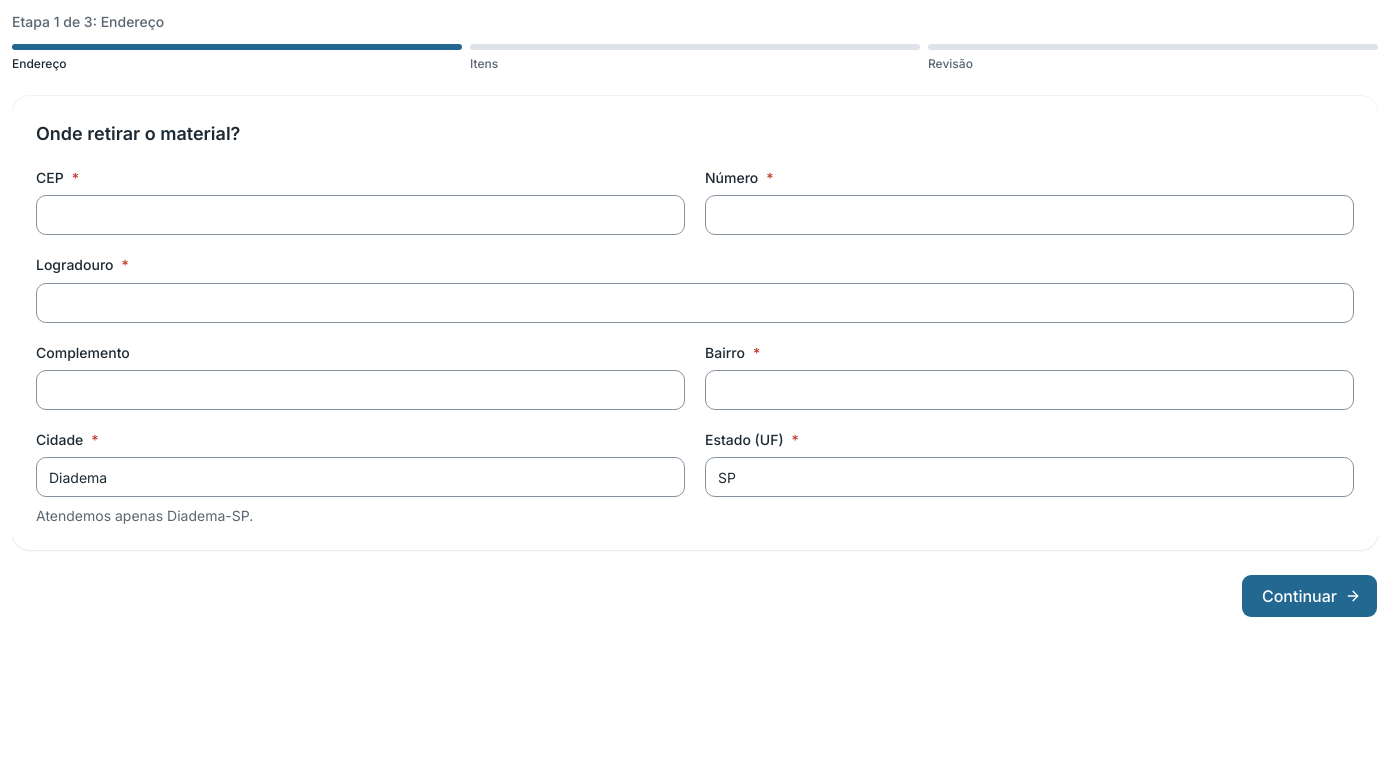
Test: CollectionRequestForm — endereço pelo CEP (DEC-081) › com o serviço de CEP indisponível, segue com preenchimento manual
Type "09900001" into the field labelled "CEP *". click: (360,215)
box: [36,195,685,235]
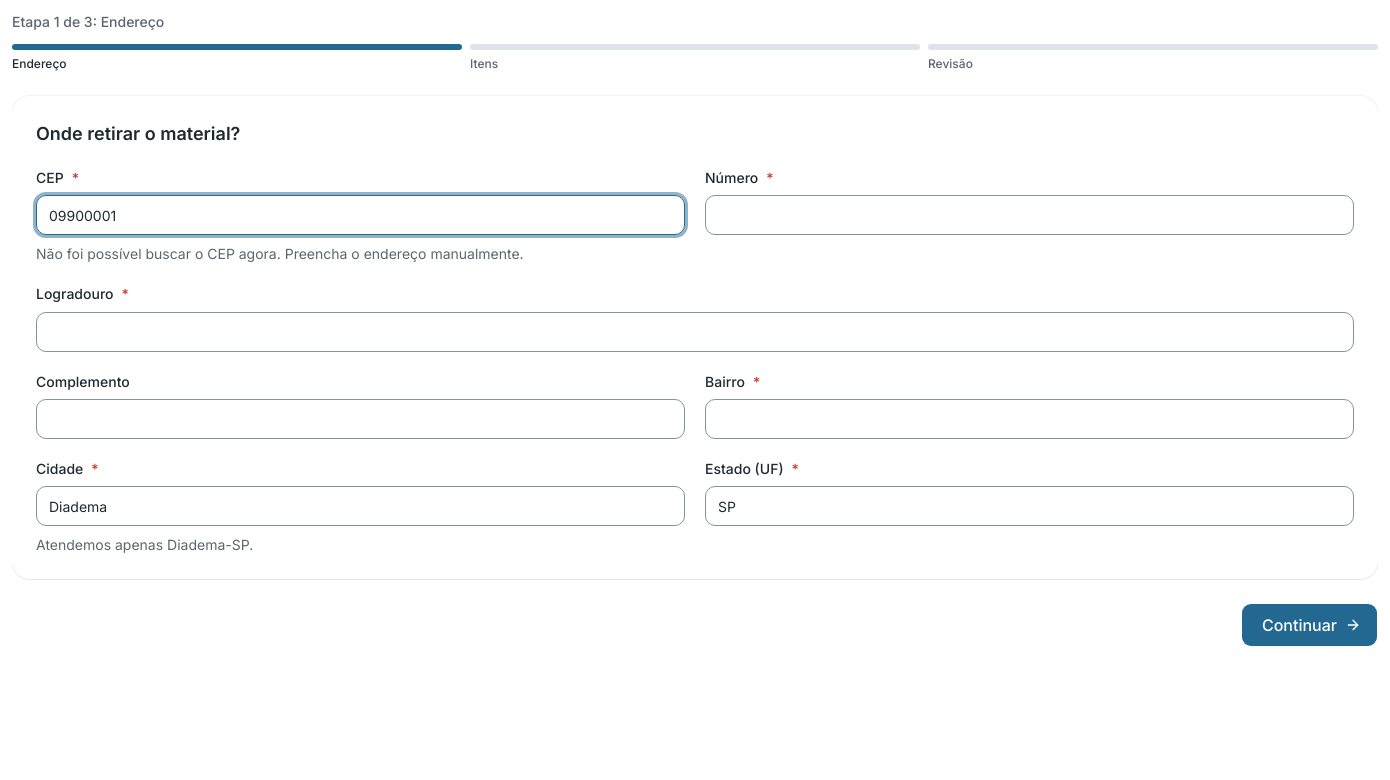
Result: the text "Não foi possível buscar o CEP agora. Preencha o endereço manualmente." is shown at [36,245,524,262]
Type "120" into the field labelled "Número *". click: (1030,215)
box: [705,195,1354,235]
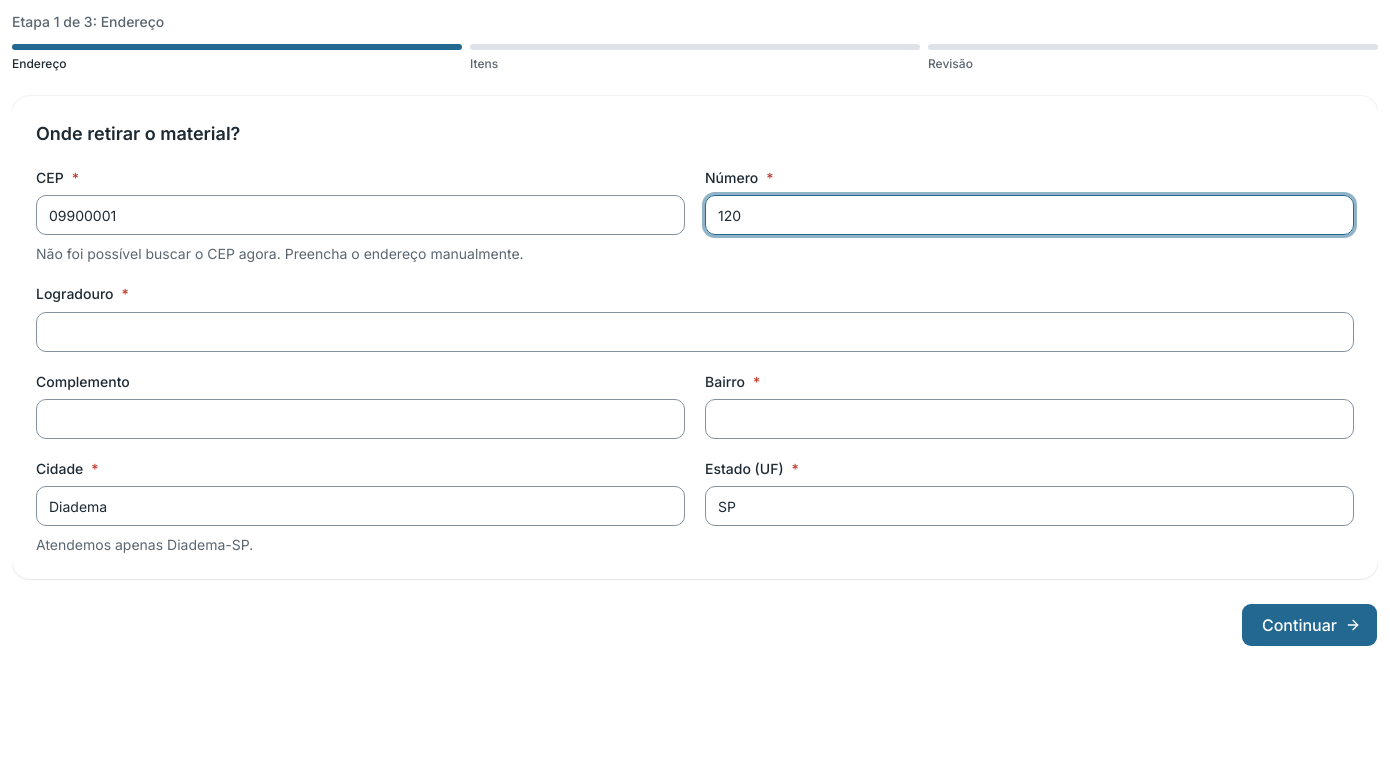
Type "Rua das Palmeiras" into the field labelled "Logradouro *". click: (695,332)
box: [36,312,1354,352]
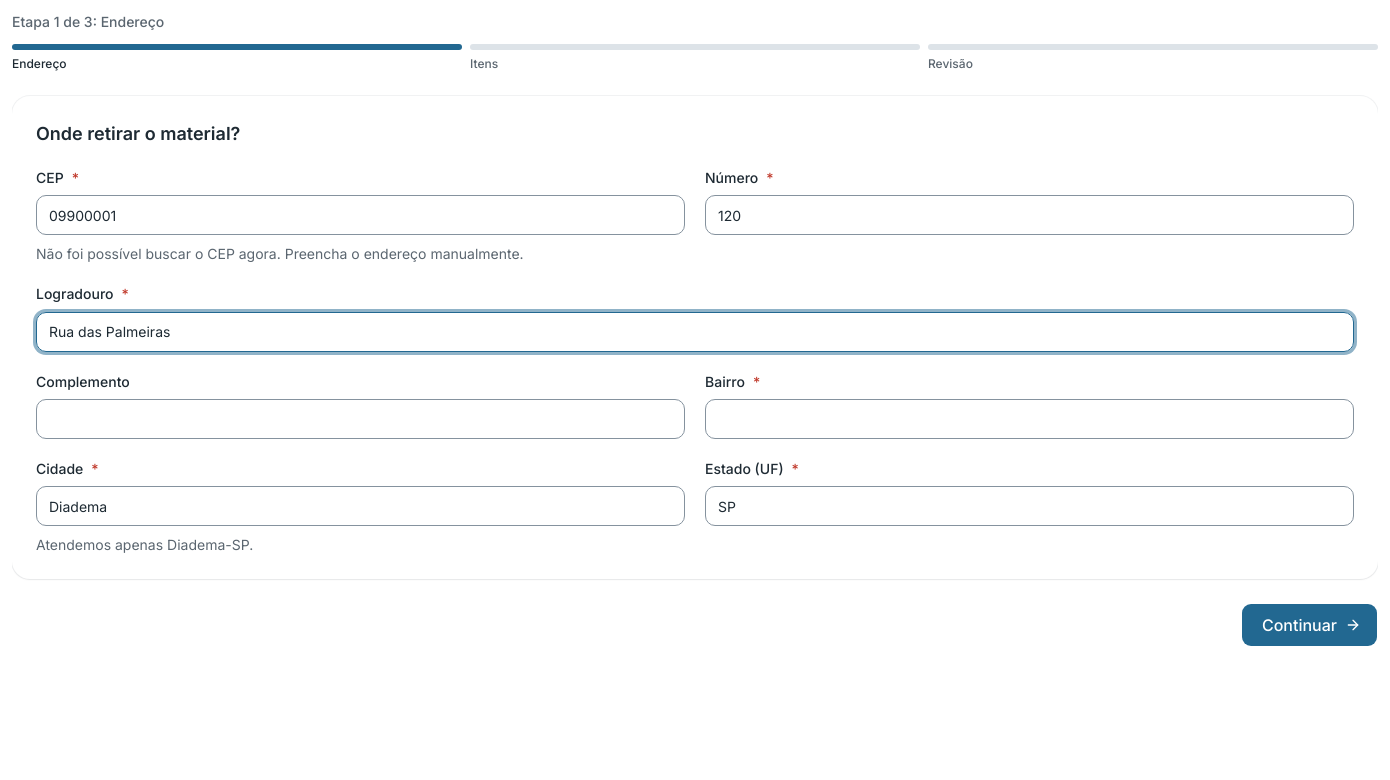
Type "Centro" into the field labelled "Bairro *". click: (1030,419)
box: [705,399,1354,439]
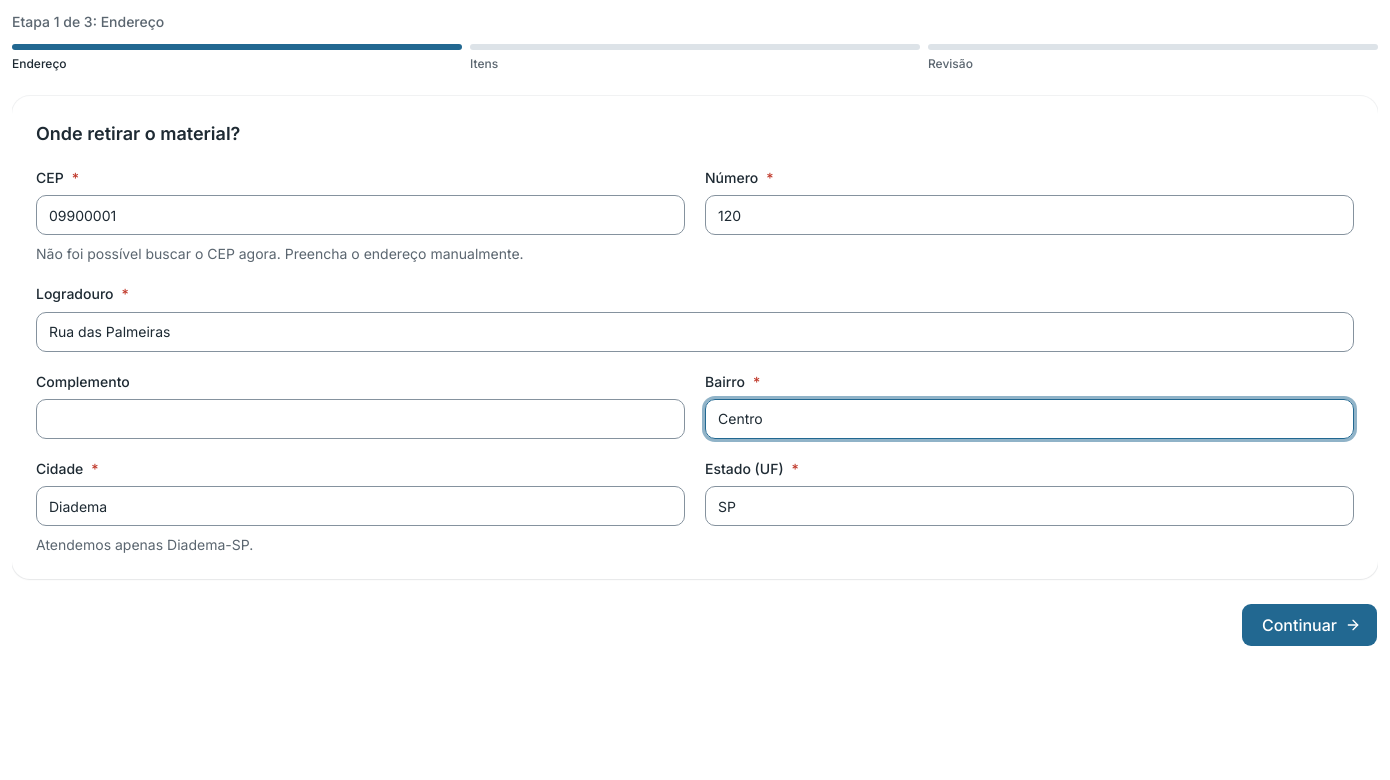
Click the button "Continuar". click: (1310,625)
box: [1241,603,1378,647]
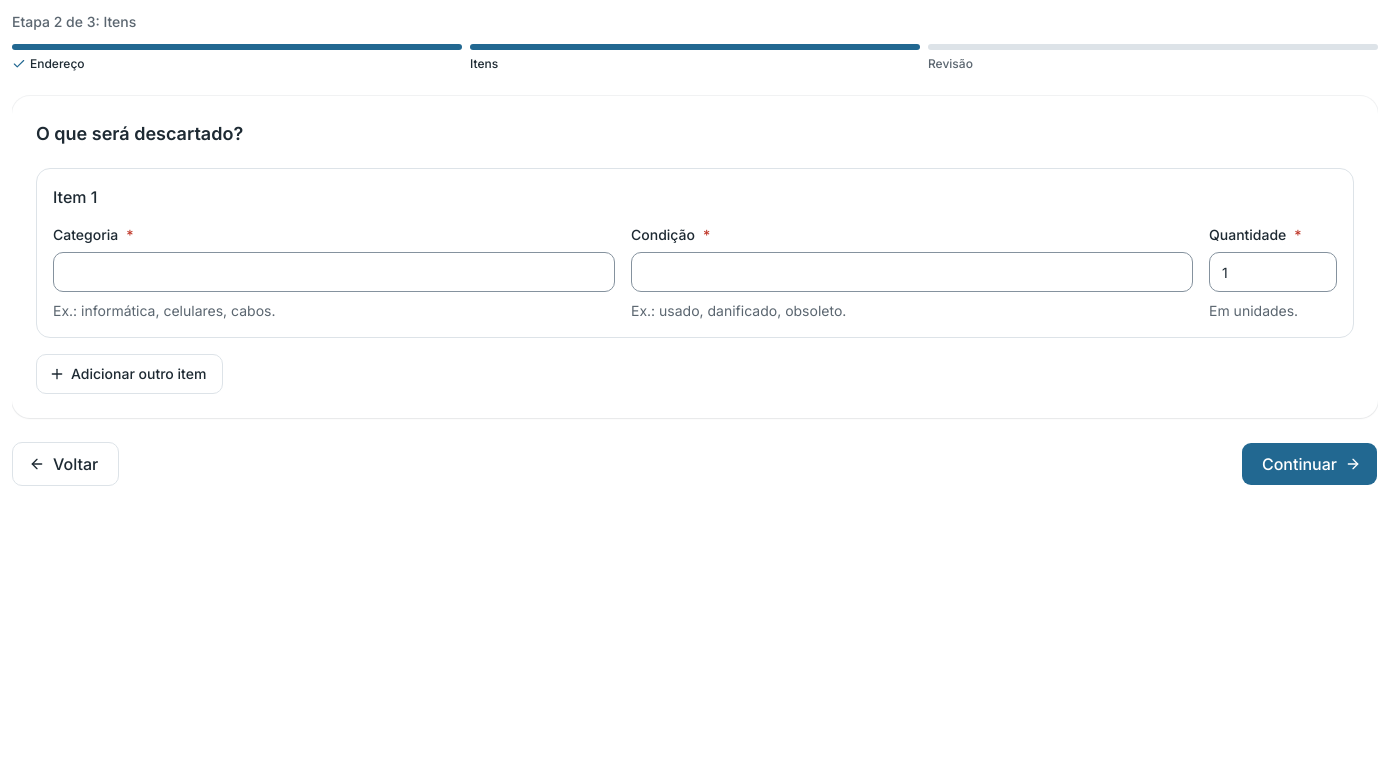
Result: the text "Etapa 2 de 3: Itens" is shown at [12,13,136,30]
